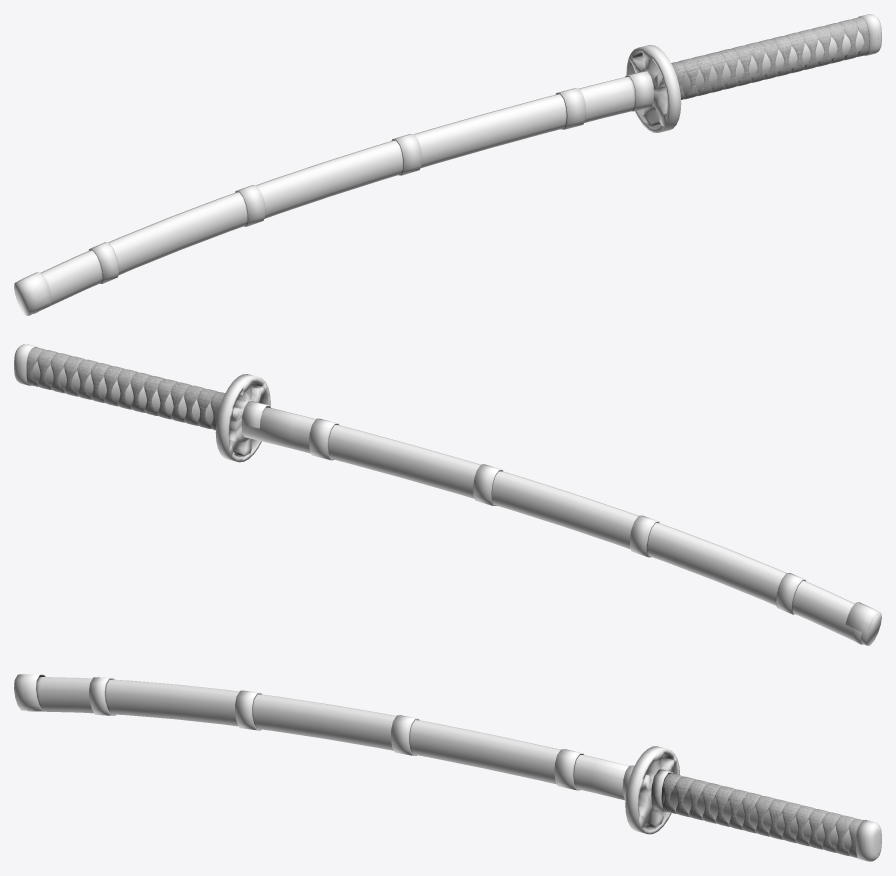
Rendered from Katana17.glb.
The picture shows the model from 3 angles, top to bottom: view 1: azimuth 30°, elevation 25°; view 2: azimuth 150°, elevation 25°; view 3: azimuth 330°, elevation 25°; orthographic projection.
Visible parts, largest first — view 1: Uploads Files 54209 Tsuba.003, Retopo_Handle Cloth.001; view 2: Uploads Files 54209 Tsuba.003, Retopo_Handle Cloth.001; view 3: Uploads Files 54209 Tsuba.003, Retopo_Handle Cloth.001.
Part boxes in pixels (bbox=[...]): Uploads Files 54209 Tsuba.003: bbox=[14, 71, 653, 315]; Retopo_Handle Cloth.001: bbox=[626, 14, 881, 132]; Uploads Files 54209 Tsuba.003: bbox=[241, 401, 881, 645]; Retopo_Handle Cloth.001: bbox=[14, 344, 270, 462]; Uploads Files 54209 Tsuba.003: bbox=[14, 674, 634, 800]; Retopo_Handle Cloth.001: bbox=[625, 746, 881, 861].
Size of the model in its own units: 0.9991 by 0.1262 by 0.0883.
Materials: 2 (2 with a texture image).
